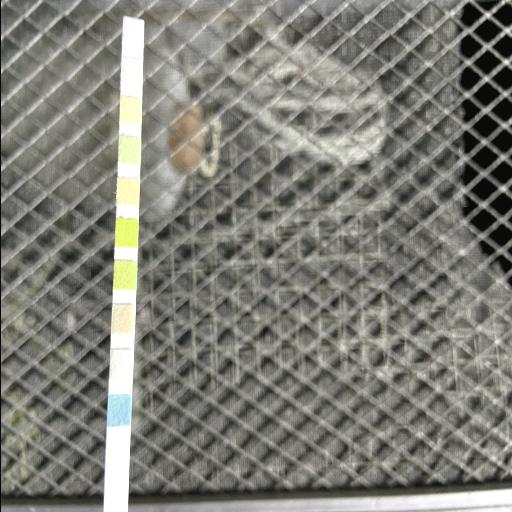Bilirubin: (110, 350, 131, 378)
Blood: (115, 220, 135, 246)
Glucose: (107, 396, 129, 425)
Ketone: (111, 306, 133, 334)
Leukocytes: (122, 20, 140, 44)
Nitrite: (121, 58, 140, 84)
Protein: (118, 137, 138, 163)
SpGravity: (113, 260, 134, 288)
Urobilinogen: (120, 98, 139, 124)
pH: (118, 178, 136, 204)
strip: (102, 15, 143, 512)
